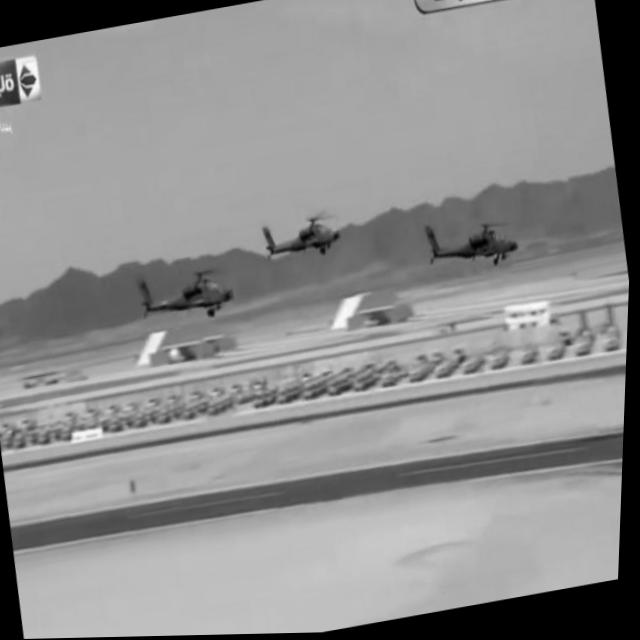helikopter: (127, 235, 240, 345), (248, 178, 366, 277), (408, 191, 524, 288)
